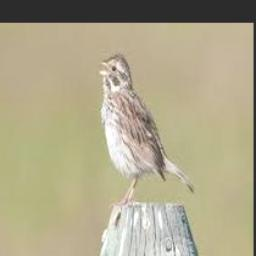Sparrow: (96, 53, 195, 204)
